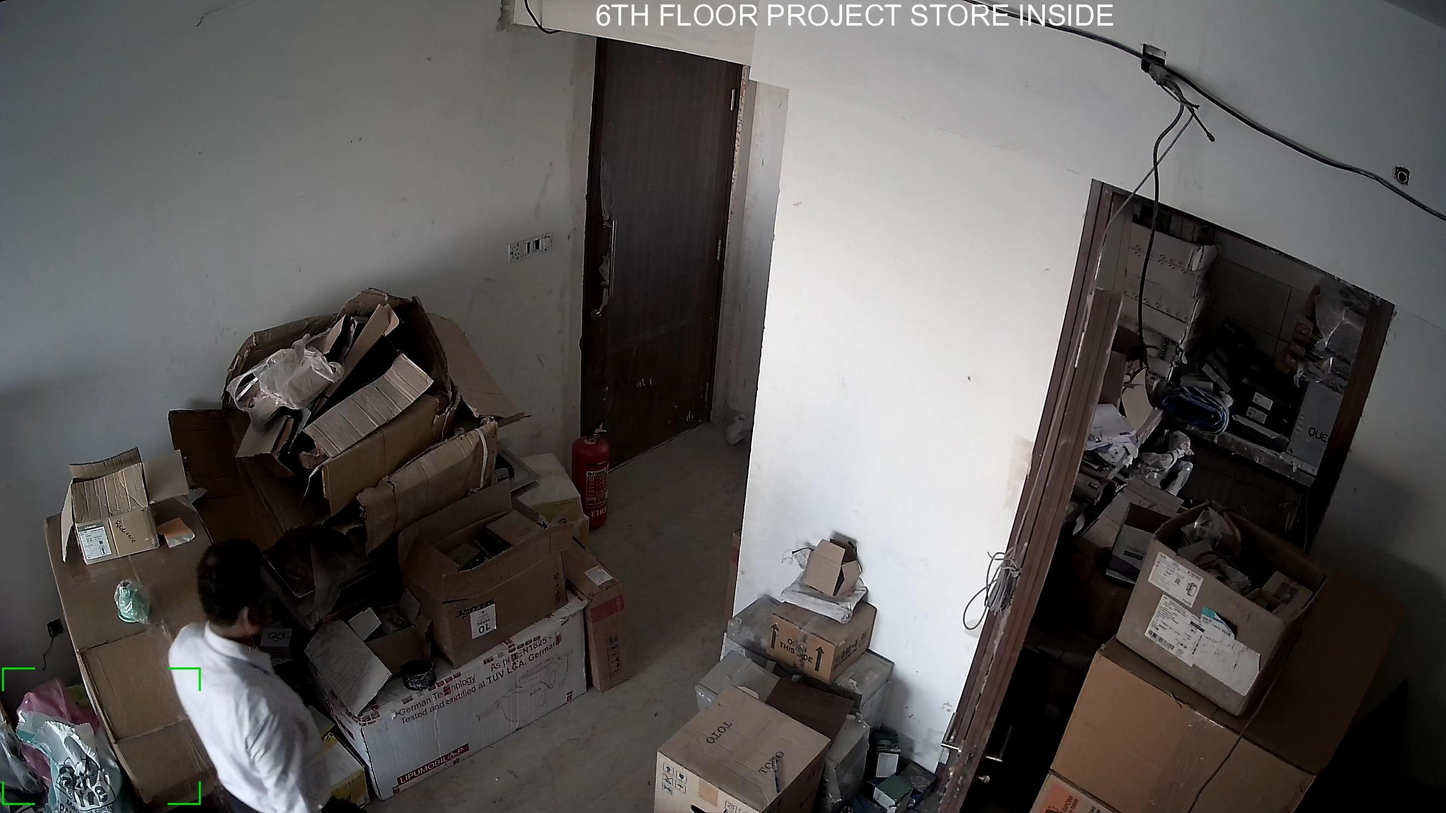Door-Close: (575, 35, 760, 484)
